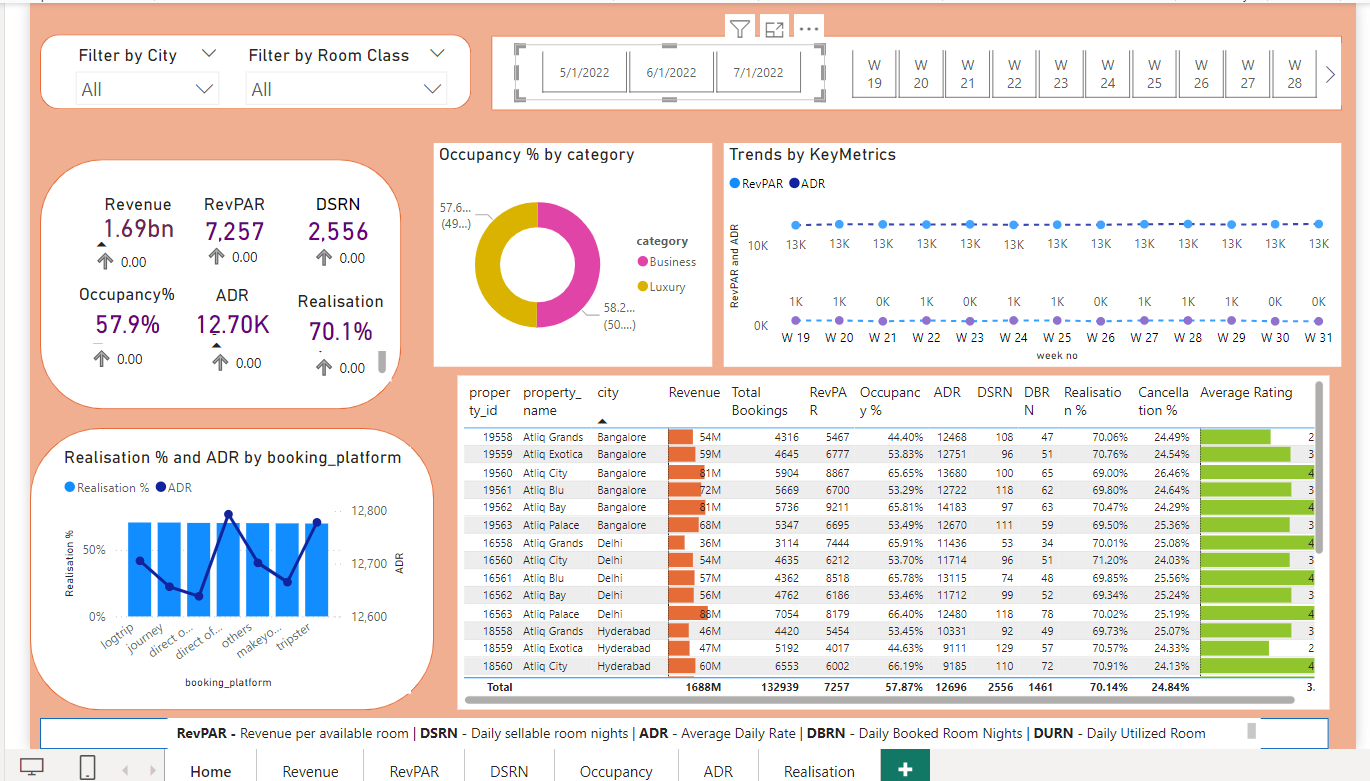

What the dashboard file says about the page in this screenshot:
{"tool":"powerbi","page":{"name":"Home","canvas":[1280,720],"ordinal":0},"visuals":[{"type":"shape","box":[0,410,390,272.5],"z":0},{"type":"shape","box":[390,135,268.8,216.2],"z":1000},{"type":"shape","box":[10,151.2,348.8,241.2],"z":2000},{"type":"shape","box":[445,31.2,821.2,72.5],"z":3000},{"type":"shape","box":[9.7,30.2,416.2,72.4],"z":4000},{"type":"tableEx","fields":{"Values":["dim_hotels.property_id","dim_hotels.property_name","dim_hotels.city","Key Measures.Revenue","Key Measures.Total Bookings","Key Measures.RevPAR","Key Measures.Occupancy %","Key Measures.ADR","Key Measures.DSRN","Key Measures.DBRN","Key Measures.Realisation %","Key Measures.Cancellation %"]},"box":[412.5,360,841.2,322.5],"z":5000},{"type":"slicer","fields":{"Values":["dim_hotels.city"]},"box":[33.8,35,158.8,63.8],"z":6000},{"type":"slicer","fields":{"Values":["dim_rooms.room_class"]},"box":[197.5,35,215,63.8],"z":7000},{"type":"slicer","fields":{"Values":["dim_date.mmm yy"]},"box":[467.5,40,300,53.8],"z":8000},{"type":"slicer","fields":{"Values":["dim_date.week no"]},"box":[767.5,38.8,498.8,60],"z":9000},{"type":"donutChart","fields":{"Category":["dim_hotels.category"],"Y":["Key Measures.Occupancy %"]},"box":[390,135,268.8,216.2],"z":10000},{"type":"tableEx","fields":{"Values":["Key Measures.Revpar WoW change %"]},"box":[160,200,81.2,61.2],"z":11000},{"type":"card","title":"RevPAR","fields":{"Values":["Key Measures.RevPAR"]},"box":[141.2,183.8,112.5,52.5],"z":12000},{"type":"lineChart","title":"Trends by KeyMetrics","fields":{"Category":["dim_date.week no","dim_date.date.Variation.Date Hierarchy.Month"],"Y":["Key Measures.RevPAR","Key Measures.ADR"]},"box":[670,135,596.2,216.2],"z":13000},{"type":"lineClusteredColumnComboChart","fields":{"Y":["Key Measures.Realisation %"],"Category":["fact_booking.booking_platform"],"Y2":["Key Measures.ADR"]},"box":[100.9,751,515.6,246.6],"z":14000},{"type":"tableEx","fields":{"Values":["Key Measures.Revpar WoW change %"]},"box":[50,298.8,80,62.5],"z":15000},{"type":"tableEx","fields":{"Values":["Key Measures.Revpar WoW change %"]},"box":[263.8,201.2,85,65],"z":16000},{"type":"tableEx","fields":{"Values":["Key Measures.Revpar WoW change %"]},"box":[163.8,302.5,83.8,62.5],"z":17000},{"type":"card","title":"Occupancy%","fields":{"Values":["Key Measures.Occupancy %"]},"box":[33.8,270,120,58.8],"z":18000},{"type":"tableEx","fields":{"Values":["Key Measures.Revpar WoW change %"]},"box":[52.5,205,80,61.2],"z":19000},{"type":"card","title":"Revenue","fields":{"Values":["Key Measures.Revenue"]},"box":[50,183.8,110,47.5],"z":20000},{"type":"card","title":"DSRN","fields":{"Values":["Key Measures.DSRN"]},"box":[246.2,183.8,102.5,52.5],"z":21000},{"type":"card","title":"ADR","fields":{"Values":["Key Measures.ADR"]},"box":[132.5,271.2,125,56.2],"z":22000},{"type":"tableEx","fields":{"Values":["Key Measures.Revpar WoW change %"]},"box":[263.8,307.5,85,57.5],"z":23000},{"type":"card","title":"Realisation","fields":{"Values":["Key Measures.Realisation %"]},"box":[247.5,277.5,105,58.8],"z":24000},{"type":"lineStackedColumnComboChart","fields":{"Category":["fact_booking.booking_platform"],"Y":["Key Measures.Realisation %"],"Y2":["Key Measures.ADR"]},"box":[27.5,428.8,340,238.8],"z":25000},{"type":"shape","box":[10,690,1243.8,30],"z":26000},{"type":"textbox","box":[132.5,690,1055,30],"z":27000}]}

Visuals, with their boxes on the page's 1280x720 design canvas (x1, y1, x2, y2). These are canvas units, not pixel positions in the 1370x781 screenshot, which may show the page scaled, cropped or inside an application window:
shape: bbox=[0, 410, 390, 682]
shape: bbox=[390, 135, 659, 351]
shape: bbox=[10, 151, 359, 392]
shape: bbox=[445, 31, 1266, 104]
shape: bbox=[10, 30, 426, 103]
tableEx - dim_hotels.property_id x dim_hotels.property_name: bbox=[412, 360, 1254, 682]
slicer - dim_hotels.city: bbox=[34, 35, 193, 99]
slicer - dim_rooms.room_class: bbox=[198, 35, 412, 99]
slicer - dim_date.mmm yy: bbox=[468, 40, 768, 94]
slicer - dim_date.week no: bbox=[768, 39, 1266, 99]
donutChart - dim_hotels.category x Key Measures.Occupancy %: bbox=[390, 135, 659, 351]
tableEx - Key Measures.Revpar WoW change %: bbox=[160, 200, 241, 261]
"RevPAR" card: bbox=[141, 184, 254, 236]
"Trends by KeyMetrics" lineChart: bbox=[670, 135, 1266, 351]
lineClusteredColumnComboChart - Key Measures.Realisation % x fact_booking.booking_platform: bbox=[101, 751, 616, 998]
tableEx - Key Measures.Revpar WoW change %: bbox=[50, 299, 130, 361]
tableEx - Key Measures.Revpar WoW change %: bbox=[264, 201, 349, 266]
tableEx - Key Measures.Revpar WoW change %: bbox=[164, 302, 248, 365]
"Occupancy%" card: bbox=[34, 270, 154, 329]
tableEx - Key Measures.Revpar WoW change %: bbox=[52, 205, 132, 266]
"Revenue" card: bbox=[50, 184, 160, 231]
"DSRN" card: bbox=[246, 184, 349, 236]
"ADR" card: bbox=[132, 271, 258, 327]
tableEx - Key Measures.Revpar WoW change %: bbox=[264, 308, 349, 365]
"Realisation" card: bbox=[248, 278, 352, 336]
lineStackedColumnComboChart - fact_booking.booking_platform x Key Measures.Realisation %: bbox=[28, 429, 368, 668]
shape: bbox=[10, 690, 1254, 720]
textbox: bbox=[132, 690, 1188, 720]
